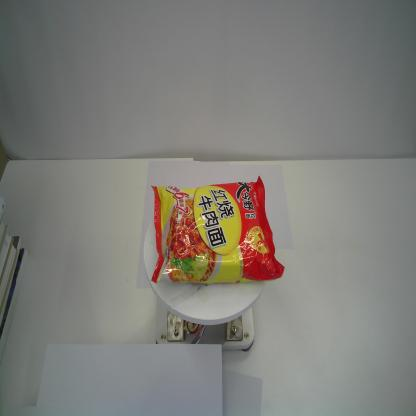Instant Noodles: (150, 174, 284, 285)
